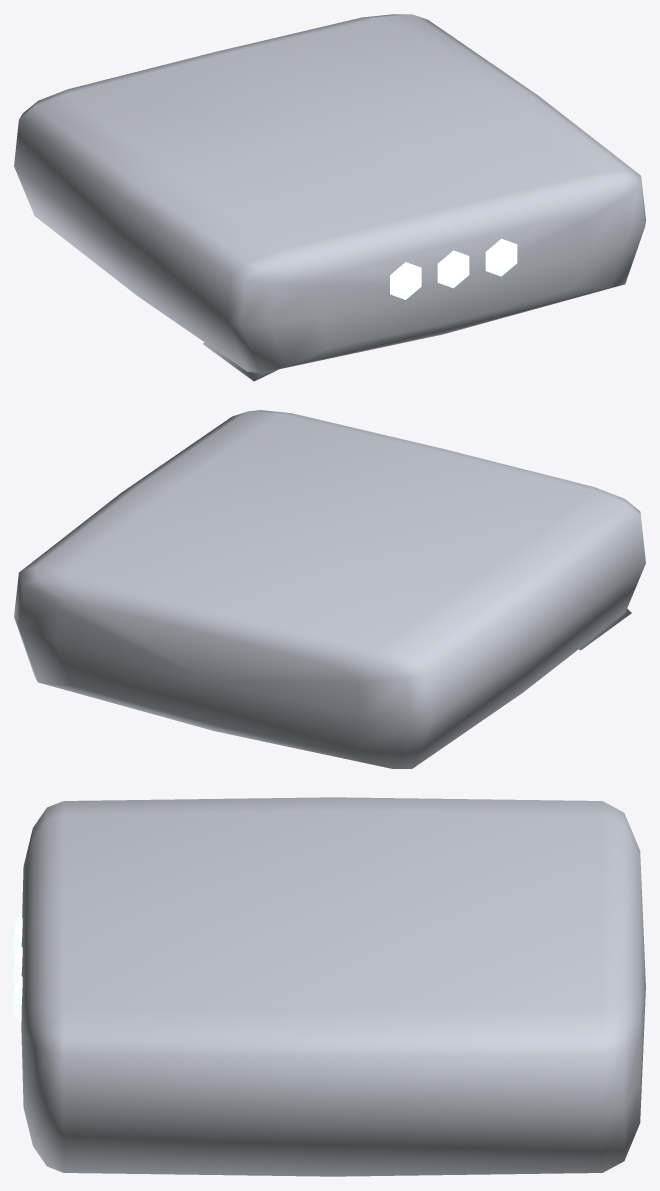
File: BubbleLow.fbx
3 renders of one model, top to bottom at view 1: azimuth 30°, elevation 25°; view 2: azimuth 150°, elevation 25°; view 3: azimuth 270°, elevation 25°, orthographic. The views are drawn at different scales.
Parts seen in each view (by area): view 1: KIT_BubbleLow_Mesh; view 2: KIT_BubbleLow_Mesh; view 3: KIT_BubbleLow_Mesh.
Boxes of the visible parts, <box> form: KIT_BubbleLow_Mesh: <box>14,14,645,381</box>; KIT_BubbleLow_Mesh: <box>14,410,645,768</box>; KIT_BubbleLow_Mesh: <box>14,797,645,1176</box>.
Bounding box in the file's own units: 3.75 × 1.04 × 3.8.
